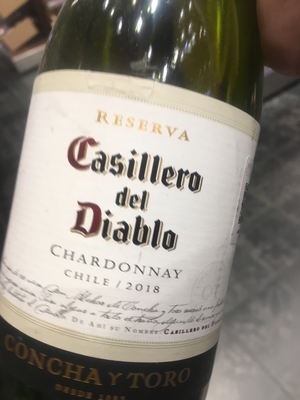casillero del diablo chardonnay: (2, 38, 260, 400)
